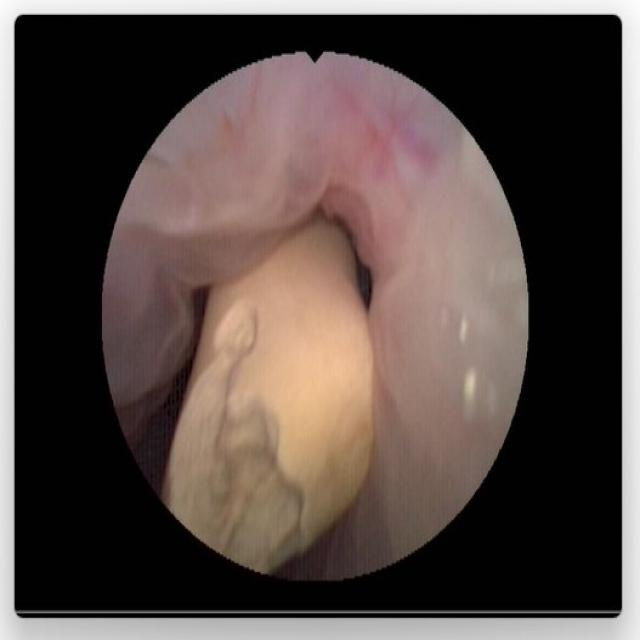stone: (162, 222, 370, 566)
tissue: (110, 58, 516, 571)
